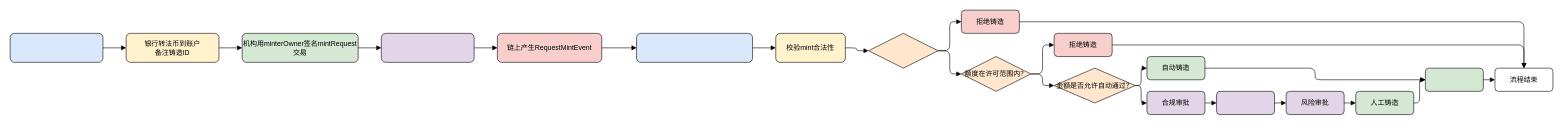
Some shapes in this 1563 by 125 pixel diagram are drawn without their labels. The centre of each missing label's shape, as x and y in pixels:
"发送mintRequest到链上" belongs at point 427,47.
"机构在SCMS申请铸造ID" belongs at point 56,47.
"法币到账且通过AML？" belongs at point 903,50.
"财务审批" belongs at point 1245,103.
"运营系统监听事件，生成审批流" belongs at point 694,47.
"铸造完成" belongs at point 1454,79.
